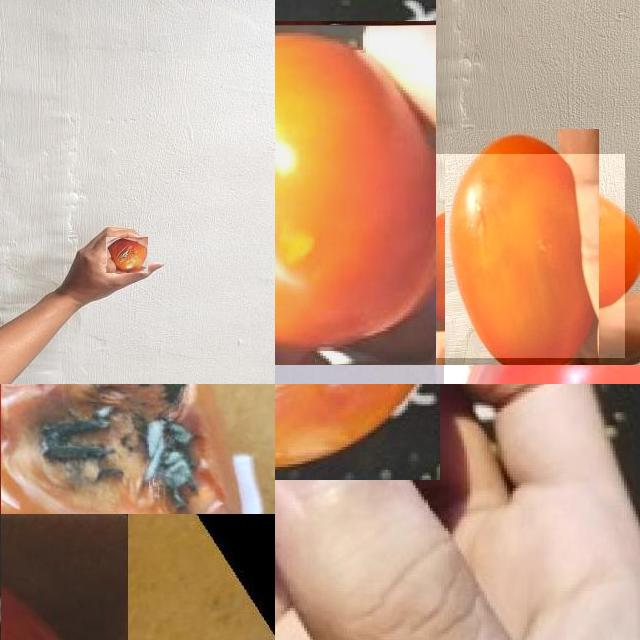0: (275, 25, 436, 365), (436, 153, 625, 358)
1: (106, 237, 148, 273)
Fresh Tomato: (1, 514, 128, 640)
Rotten Tomato: (1, 384, 275, 514)
